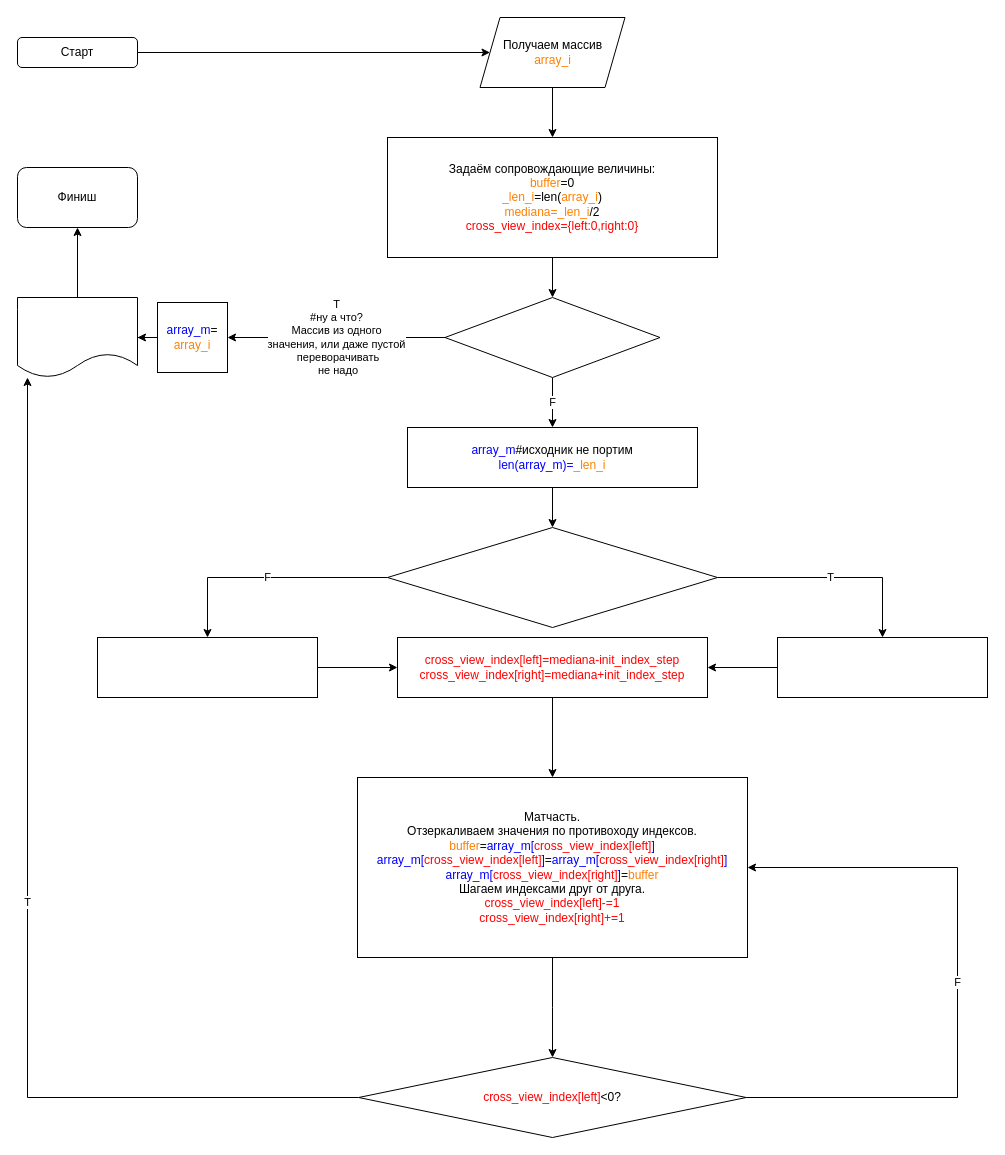
This 1005x1155 diagram has some shape labels left out. Each missing label, with the centre of its shape:
"_len_i <=1?" goes at [552,337].
"array_m" goes at [77,337].
"init_index_step=0.5" goes at [207,667].
"init_index_step=1" goes at [882,667].
"mediana%2? # mediana целое? Задаём индекс первого шага" goes at [552,577].
